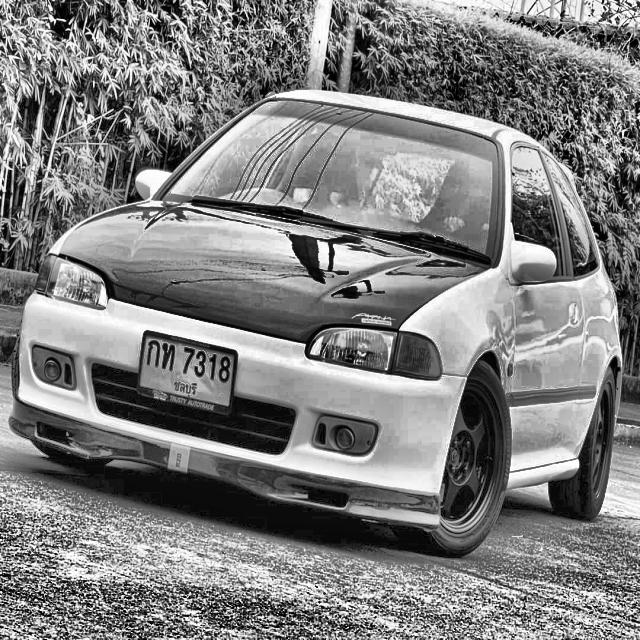license-plate: (136, 324, 240, 416)
